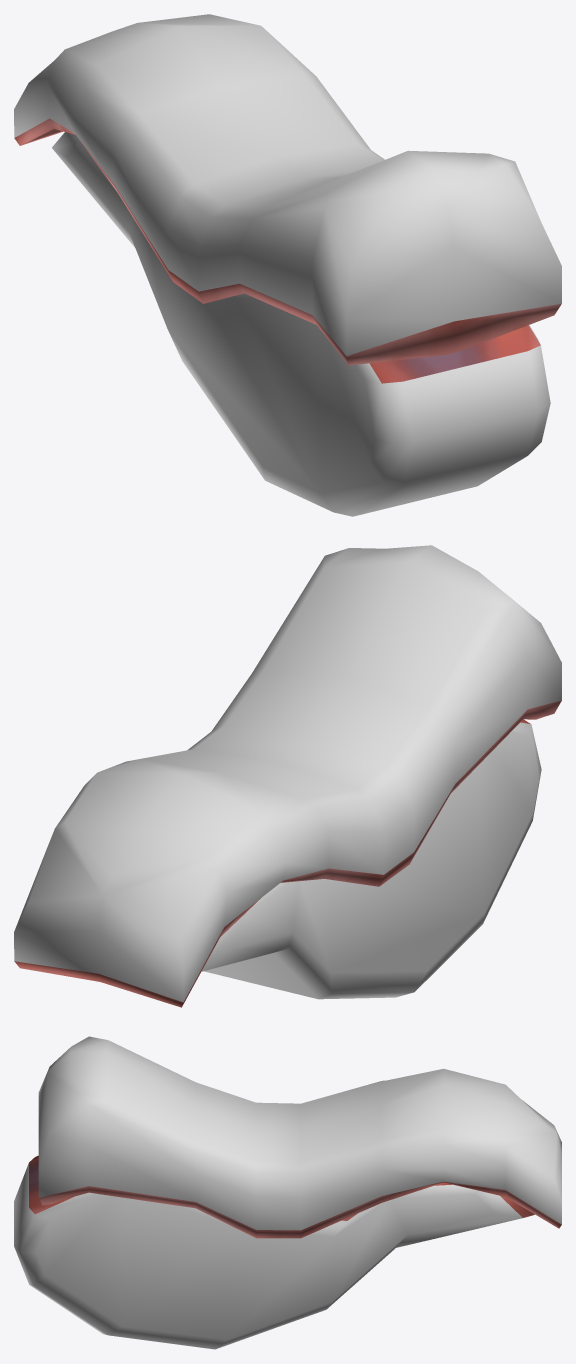
The model's file is Mandibula.fbx.
3 views of the same model, one above another, from view 1: azimuth 30°, elevation 25°; view 2: azimuth 150°, elevation 25°; view 3: azimuth 270°, elevation 25° (orthographic). The views are drawn at different scales.
Parts seen in each view (by area): view 1: Mandibula; view 2: Mandibula; view 3: Mandibula.
Boxes of the visible parts, x1,y1,x2,y2 form: Mandibula: (14,14,561,516); Mandibula: (14,545,561,1007); Mandibula: (14,1036,561,1349).
Size of the model in its own units: 17.43 by 28.56 by 52.14.
